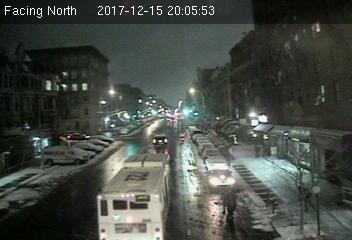bus: (97, 153, 171, 240)
car: (208, 168, 236, 186), (152, 134, 168, 145)
